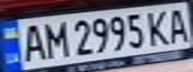2: (69, 16, 93, 56)
5: (124, 10, 148, 49)
9: (106, 12, 130, 52), (90, 15, 112, 55)
A: (15, 21, 48, 63), (163, 5, 193, 44)
K: (145, 8, 175, 47)
M: (39, 18, 69, 60)
